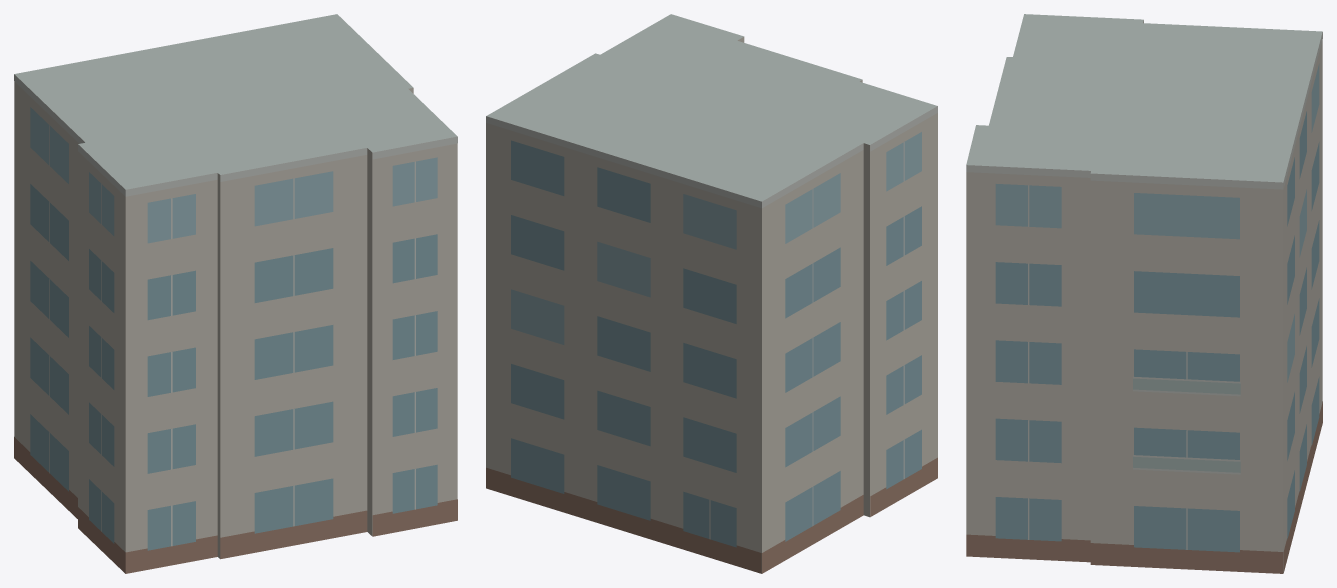
Rendered from survey-upis-32671764.glb.
The picture shows the model from 3 angles, left to right: view 1: azimuth 30°, elevation 25°; view 2: azimuth 150°, elevation 25°; view 3: azimuth 270°, elevation 25°; orthographic projection. The views are drawn at different scales.
Parts seen in each view (by area): view 1: survey-upis-32671764.tmp; view 2: survey-upis-32671764.tmp; view 3: survey-upis-32671764.tmp.
Part boxes in pixels (x1,y1,x2,y2): survey-upis-32671764.tmp: (14,14,457,573); survey-upis-32671764.tmp: (486,14,937,573); survey-upis-32671764.tmp: (966,14,1322,573).
Bounding box in the file's own units: 12.48 × 13.5 × 11.16.
